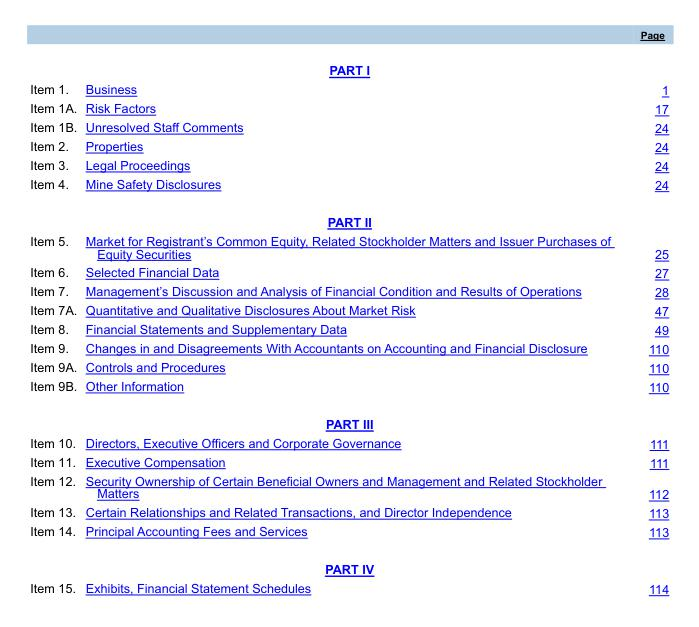table: (29, 28, 668, 595)
table column: (80, 28, 624, 595), (29, 28, 80, 595), (624, 28, 668, 595)
table column header: (29, 28, 668, 51)
table projected row header: (29, 51, 668, 79), (29, 203, 668, 231), (29, 405, 668, 433), (29, 550, 668, 578)
table row: (29, 231, 668, 263), (29, 471, 668, 502), (29, 174, 668, 203), (29, 376, 668, 405), (29, 521, 668, 550), (29, 51, 668, 79), (29, 203, 668, 231), (29, 405, 668, 433), (29, 550, 668, 578), (29, 28, 668, 51), (29, 79, 668, 98), (29, 98, 668, 117), (29, 117, 668, 136), (29, 136, 668, 155), (29, 155, 668, 174), (29, 281, 668, 300), (29, 300, 668, 319), (29, 319, 668, 338), (29, 338, 668, 357), (29, 357, 668, 376), (29, 433, 668, 452), (29, 452, 668, 471), (29, 502, 668, 521), (29, 263, 668, 281), (29, 578, 668, 595)
